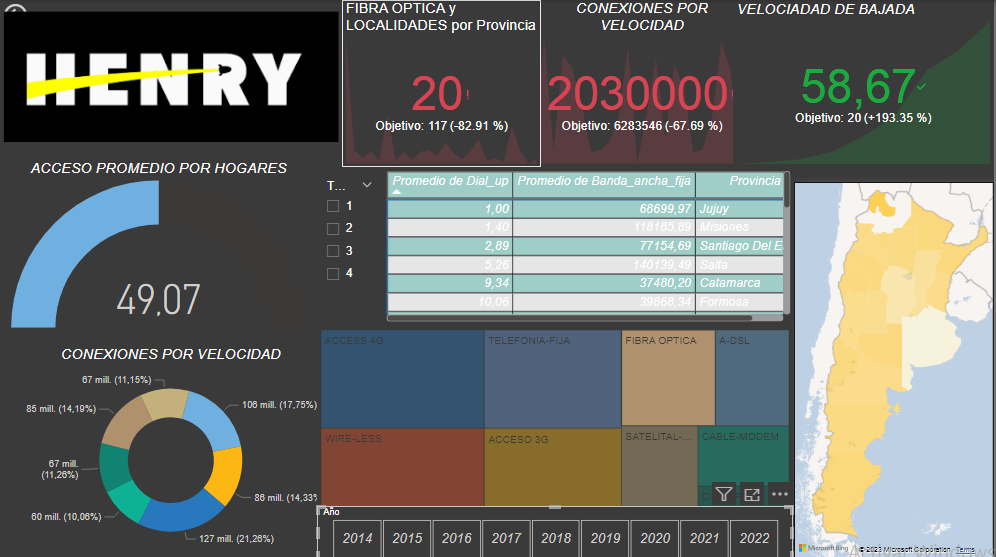

This screenshot's page, from the dashboard's own definition file:
{"tool":"powerbi","page":{"name":"Página 1","canvas":[1280,720],"ordinal":0},"visuals":[{"type":"filledMap","title":"PROVINCIAS DE ARGENTINA","fields":{"Y":["conectividad_net.Latitud"],"X":["conectividad_net.Longitud"],"Category":["conectividad_net.Provincia","data_velocidad.Provincia","acceso_internet_velocidad (2).Provincia"]},"box":[1022.8,234.4,257.2,485.4],"z":0},{"type":"slicer","fields":{"Values":["data_conexiones.Año"]},"box":[408.7,652.1,613.1,68.7],"z":1000},{"type":"slicer","fields":{"Values":["data_velocidad.Trimestre"]},"box":[408.7,224.8,83.6,195.1],"z":2000},{"type":"actionButton","box":[0,0,100,40],"z":3000},{"type":"donutChart","title":"CONEXIONES POR VELOCIDAD","fields":{"Y":["data_velocidad.menor 512 mbps","data_velocidad.512_kbps a 1mbps","data_velocidad.1Mbps-6Mbps","data_velocidad.+6Mbps-10Mbps","data_velocidad.+10Mbps-20Mbps","data_velocidad.+20Mbps-30Mbps","data_velocidad.+30Mbps"]},"box":[0,445.9,440.3,273.1],"z":4000},{"type":"gauge","title":"ACCESO PROMEDIO POR HOGARES","fields":{"Y":["data_velocidad.Accesos_por_cada_100_hogares"]},"box":[0,206.2,408.7,221.1],"z":5000},{"type":"treemap","fields":{"Values":["conectividad_net.A-DSL","conectividad_net.ACCESO 3G","conectividad_net.ACCESS 4G","conectividad_net.CABLE-MODEM","conectividad_net.DIAL UP","conectividad_net.FIBRA OPTICA","conectividad_net.SATELITAL-NET","conectividad_net.WIRE-LESS","conectividad_net.TELEFONIA-FIJA"]},"box":[408.7,419.9,613.1,247.1],"z":6000},{"type":"kpi","title":"CONEXIONES POR VELOCIDAD","fields":{"Indicator":["data_velocidad.menor 512Kbps"],"TrendLine":["data_velocidad.Provincia"],"Goal":["data_velocidad.Total_Conexiones"]},"box":[683.7,0,286.1,215.5],"z":8000},{"type":"kpi","fields":{"Goal":["data_velocidad.+20MBPS"],"Indicator":["data_conexiones.Mbps_Media_bajada"],"TrendLine":["data_conexiones.Año"]},"box":[943.7,9.3,336.3,215.5],"z":9000},{"type":"kpi","fields":{"Indicator":["conectividad_net.FIBRA OPTICA"],"TrendLine":["conectividad_net.Provincia"],"Goal":["conectividad_net.LOCALIDADES"]},"box":[440.3,0,256.4,215.5],"z":9001},{"type":"tableEx","fields":{"Values":["data_velocidad.Dial_up","data_velocidad.Banda_ancha_fija","data_velocidad.Provincia"]},"box":[492.3,215.5,531.3,204.4],"z":9002},{"type":"image","box":[0,0,440.5,197.5],"z":9003}]}

Visuals, with their boxes in screenshot pixels (x1, y1, x2, y2), scaled from the page's 1280x720 canvas onto the 996x557 screenshot:
"PROVINCIAS DE ARGENTINA" filledMap: bbox=[796, 181, 995, 556]
slicer - data_conexiones.Año: bbox=[318, 504, 795, 556]
slicer - data_velocidad.Trimestre: bbox=[318, 174, 383, 325]
actionButton: bbox=[0, 0, 78, 31]
"CONEXIONES POR VELOCIDAD" donutChart: bbox=[0, 345, 343, 556]
"ACCESO PROMEDIO POR HOGARES" gauge: bbox=[0, 160, 318, 331]
treemap - conectividad_net.A-DSL x conectividad_net.ACCESO 3G: bbox=[318, 325, 795, 516]
"CONEXIONES POR VELOCIDAD" kpi: bbox=[532, 0, 755, 167]
kpi - data_velocidad.+20MBPS x data_conexiones.Mbps_Media_bajada: bbox=[734, 7, 995, 174]
kpi - conectividad_net.FIBRA OPTICA x conectividad_net.Provincia: bbox=[343, 0, 542, 167]
tableEx - data_velocidad.Dial_up x data_velocidad.Banda_ancha_fija: bbox=[383, 167, 796, 325]
image: bbox=[0, 0, 343, 153]
